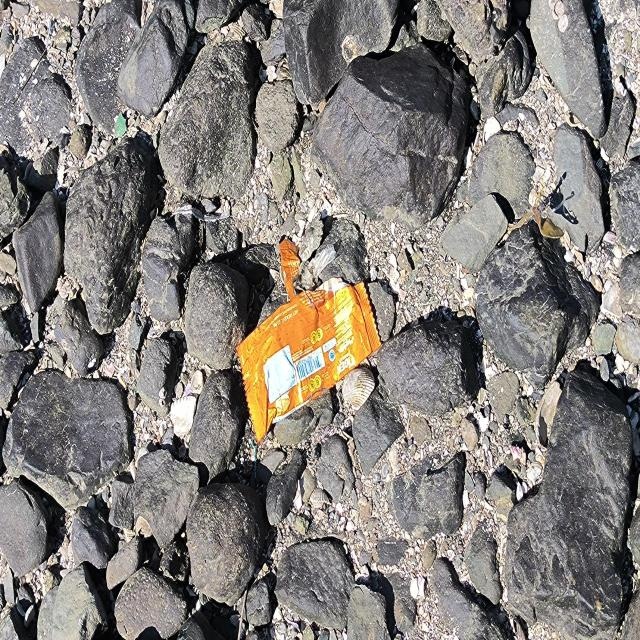plastic_waste: (237, 238, 384, 446)
